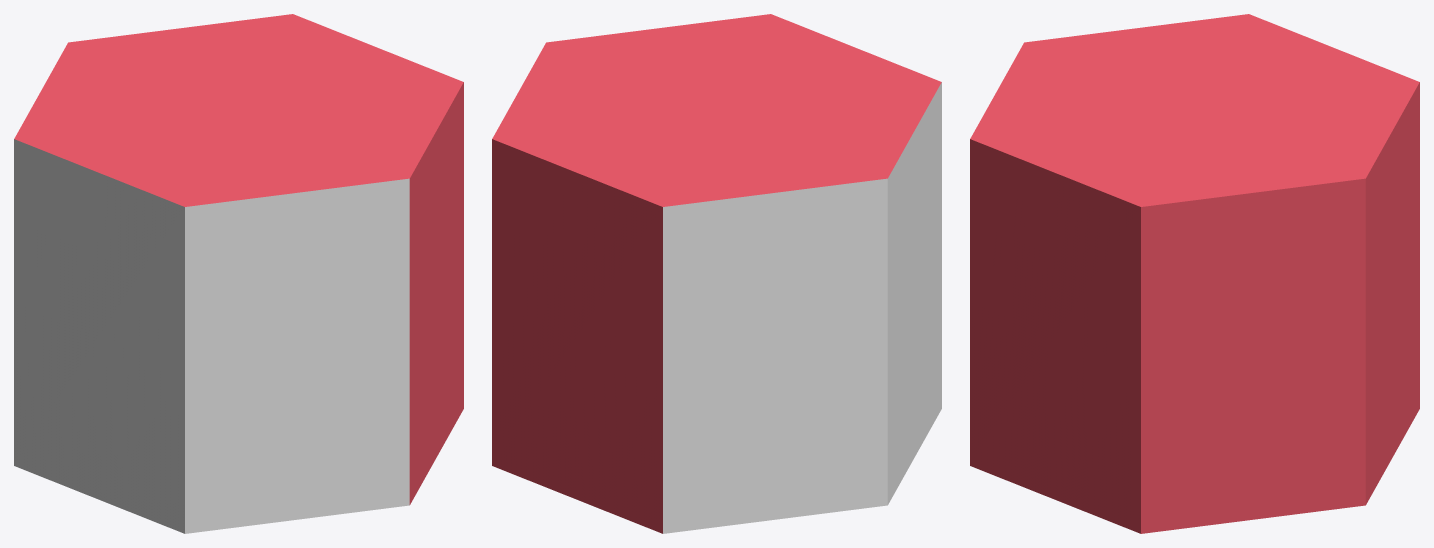
File: marker.gltf
3 views of the same model, side by side, from view 1: azimuth 30°, elevation 25°; view 2: azimuth 150°, elevation 25°; view 3: azimuth 270°, elevation 25° (orthographic).
Visible parts, largest first — view 1: Mesh1 Model; view 2: Mesh1 Model; view 3: Mesh1 Model.
Part boxes in pixels (x1=…): Mesh1 Model: x1=14, y1=14, x2=463, y2=533; Mesh1 Model: x1=492, y1=14, x2=941, y2=533; Mesh1 Model: x1=970, y1=14, x2=1419, y2=533.
Size of the model in its own units: 0.798 by 0.63 by 0.7854.
